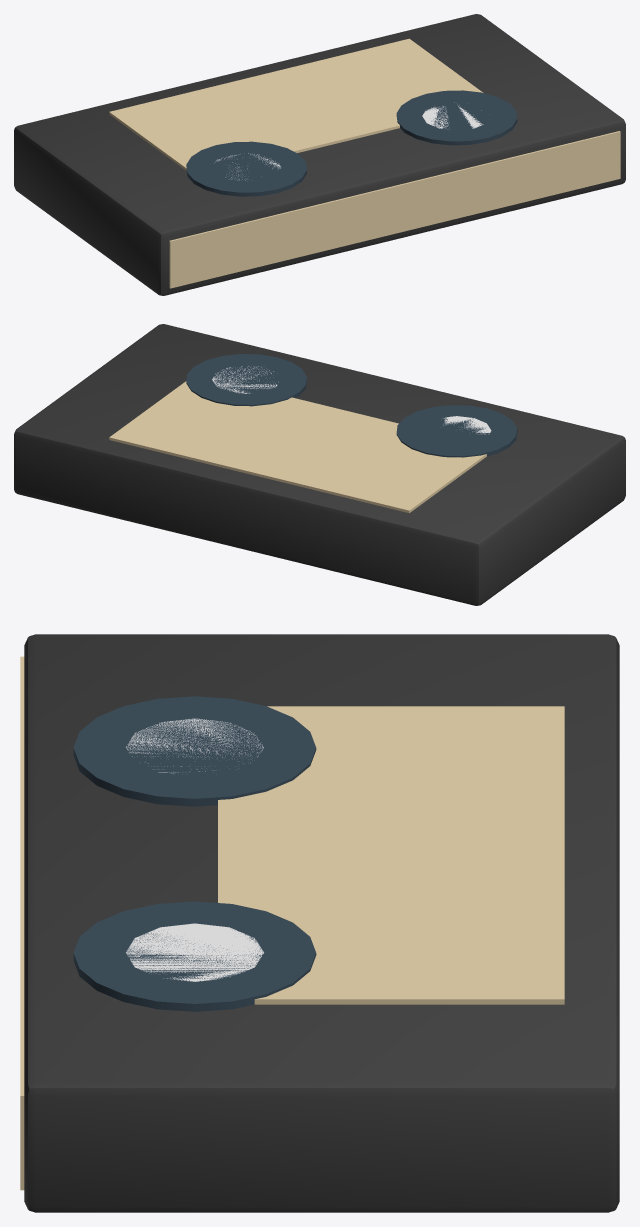
File: SM_VHSTape.fbx
3 views of the same model, one above another, from view 1: azimuth 30°, elevation 25°; view 2: azimuth 150°, elevation 25°; view 3: azimuth 270°, elevation 25° (orthographic). The views are drawn at different scales.
Visible parts, largest first — view 1: SM_VHSTape; view 2: SM_VHSTape; view 3: SM_VHSTape.
Part boxes in pixels (left/top/right/bottom): SM_VHSTape: left=14, top=14, right=625, bottom=295; SM_VHSTape: left=14, top=324, right=625, bottom=605; SM_VHSTape: left=20, top=634, right=619, bottom=1212.
Bounding box in the file's own units: 18.7 × 2.65 × 10.37.
